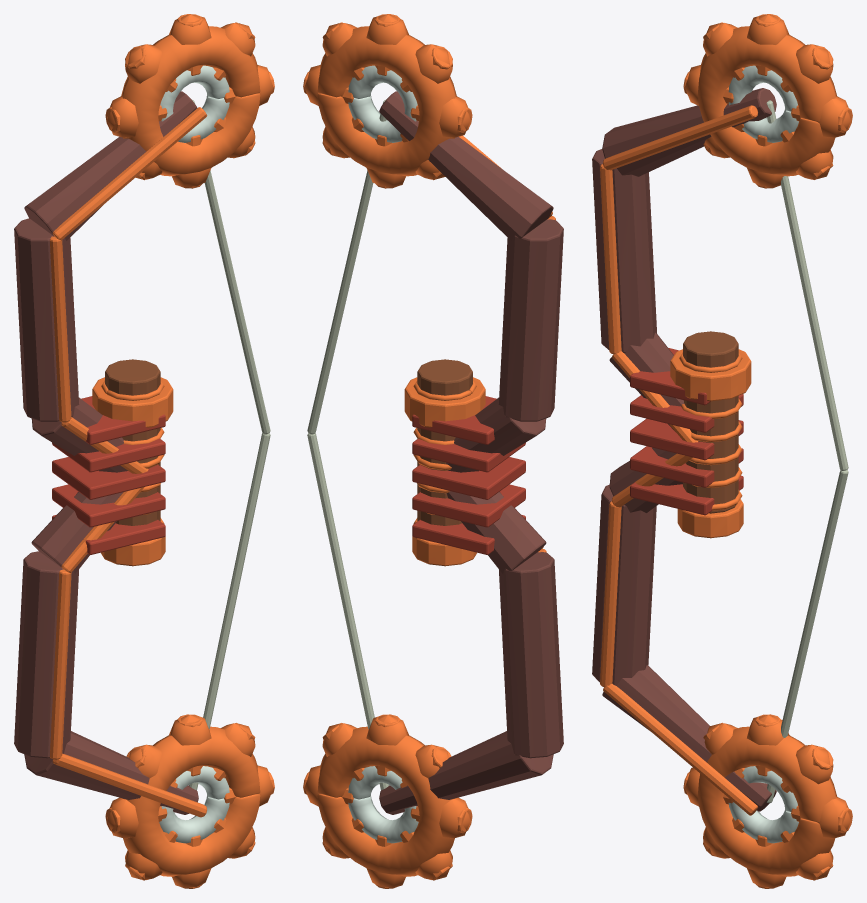
Rendered from item_033.glb.
The picture shows the model from 3 angles, left to right: view 1: azimuth 30°, elevation 25°; view 2: azimuth 150°, elevation 25°; view 3: azimuth 330°, elevation 25°; orthographic projection.
Visible parts, largest first — view 1: Item_033_bellows_pulleybow; view 2: Item_033_bellows_pulleybow; view 3: Item_033_bellows_pulleybow.
Part boxes in pixels (left/top/right/bottom): Item_033_bellows_pulleybow: left=14, top=14, right=274, bottom=888; Item_033_bellows_pulleybow: left=303, top=14, right=563, bottom=888; Item_033_bellows_pulleybow: left=592, top=14, right=852, bottom=888.
Bounding box in the file's own units: 0.5337 × 1.75 × 0.1472.
